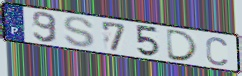5: (136, 24, 162, 58)
7: (100, 20, 127, 52)
9: (31, 11, 58, 45)
C: (204, 35, 229, 67)
D: (165, 28, 200, 63)
S: (62, 15, 97, 49)
